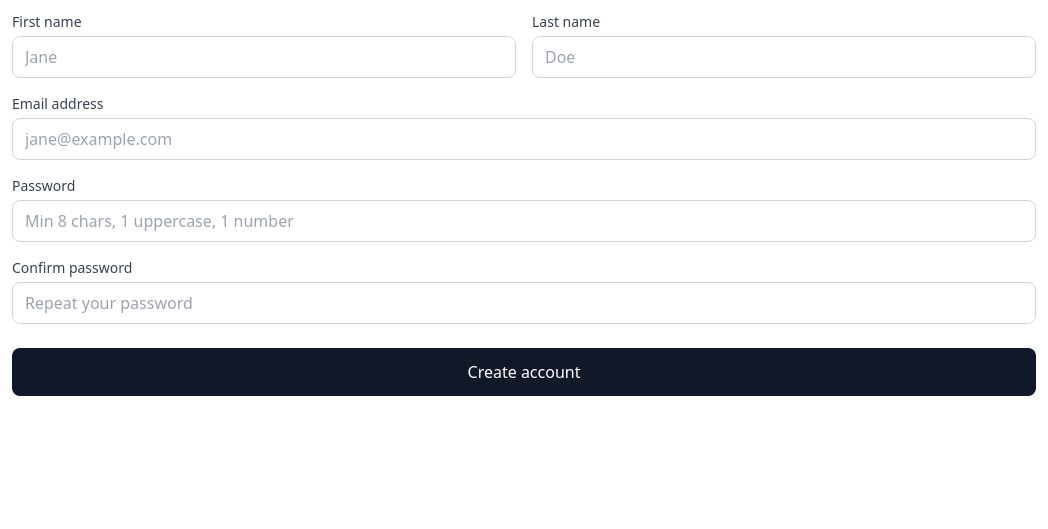
RegisterForm › shows inline error when password is too short
The width and height of the screenshot is (1048, 529).
Type "P1" into the password field labelled "Password" at (524,221), box x1=12 y1=200 x2=1036 y2=242
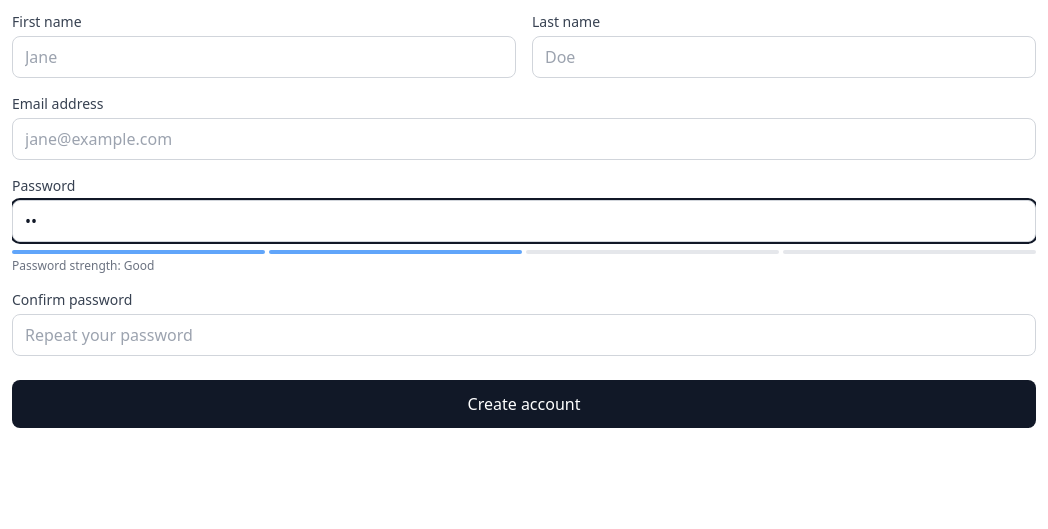
Click the button "Create account" at (524,404), box x1=12 y1=380 x2=1036 y2=428
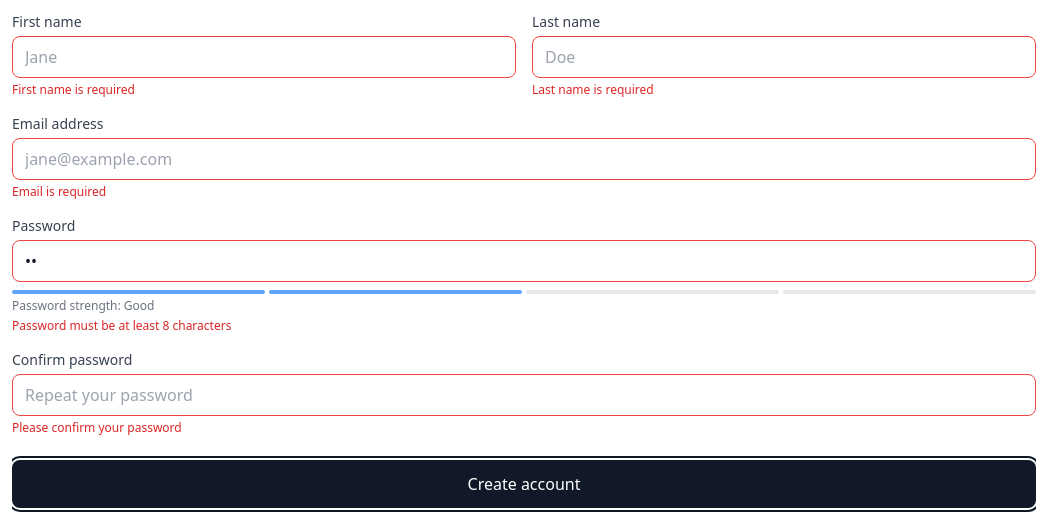
Now the text "Password must be at least 8 characters" is shown, box x1=12 y1=317 x2=231 y2=334
